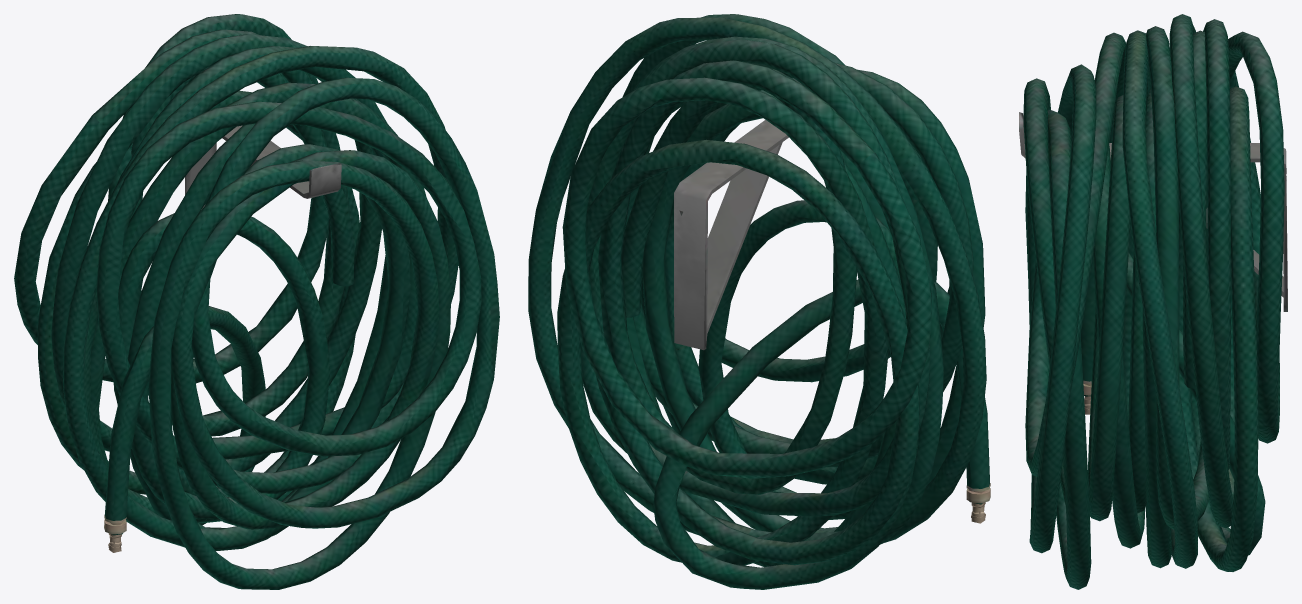
Rendered from garden_hose_wall_mounted_01.glb.
The picture shows the model from 3 angles, left to right: view 1: azimuth 30°, elevation 25°; view 2: azimuth 150°, elevation 25°; view 3: azimuth 270°, elevation 25°; orthographic projection. The views are drawn at different scales.
Visible parts, largest first — view 1: garden_hose_wall_bracket; view 2: garden_hose_wall_bracket; view 3: garden_hose_wall_bracket.
Part boxes in pixels (left/top/right/bottom): garden_hose_wall_bracket: left=14, top=14, right=499, bottom=589; garden_hose_wall_bracket: left=528, top=14, right=990, bottom=589; garden_hose_wall_bracket: left=1019, top=14, right=1287, bottom=589.
Size of the model in its own units: 0.4658 by 0.557 by 0.2503.
1 material, 1 textured.
